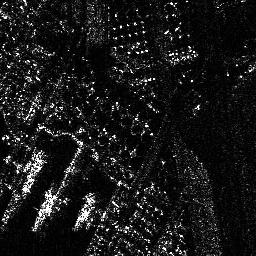ship: (20, 150, 48, 194), (32, 188, 53, 233), (73, 191, 96, 230)
